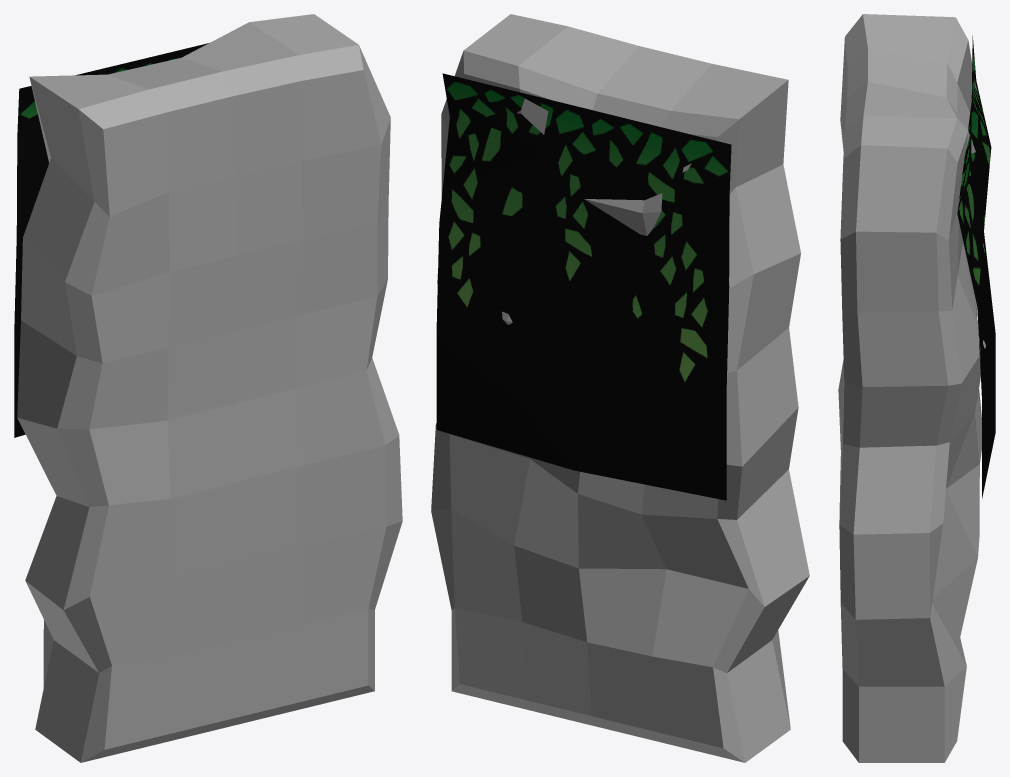
The model's file is rock_wall.fbx.
3 views of the same model, side by side, from view 1: azimuth 30°, elevation 25°; view 2: azimuth 150°, elevation 25°; view 3: azimuth 270°, elevation 25° (orthographic). The views are drawn at different scales.
Visible parts, largest first — view 1: polySurface29, polySurface30; view 2: polySurface29, polySurface30; view 3: polySurface29, polySurface30.
Part boxes in pixels (<box>): polySurface29: <box>17,14,402,762</box>; polySurface30: <box>14,43,208,437</box>; polySurface29: <box>431,14,809,762</box>; polySurface30: <box>436,73,731,500</box>; polySurface29: <box>838,14,985,762</box>; polySurface30: <box>957,36,995,498</box>.
Bounding box in the file's own units: 362 × 663 × 154.
